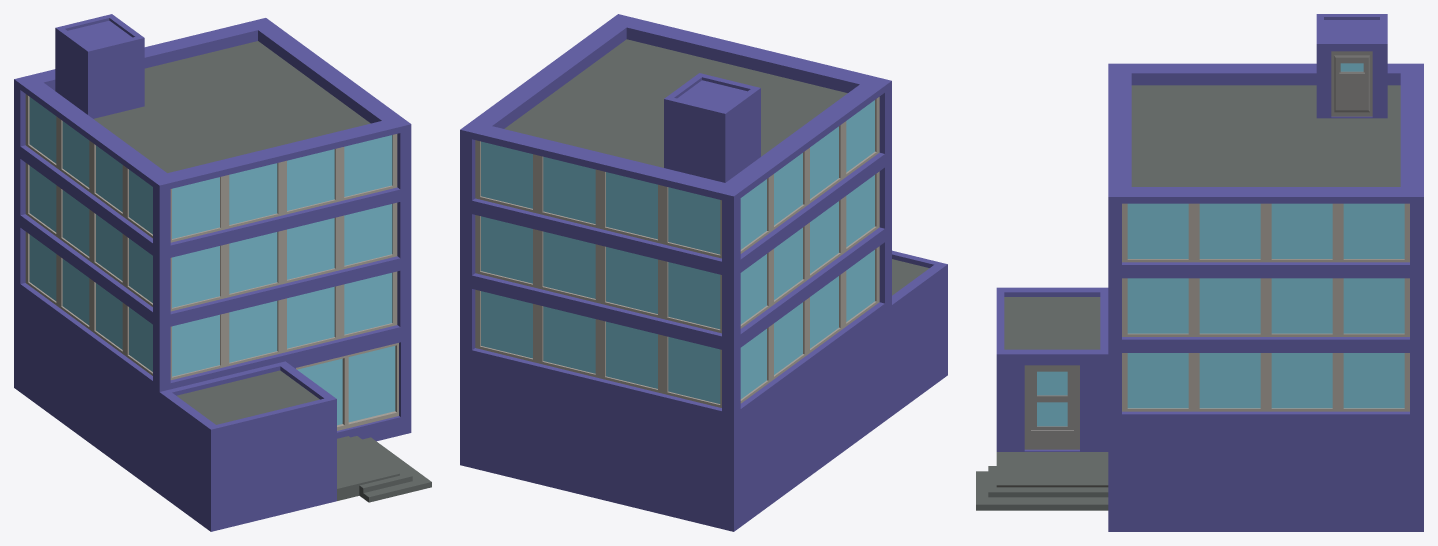
Rendered from SM_house_37.gltf.
3 renders of one model, left to right at view 1: azimuth 30°, elevation 25°; view 2: azimuth 150°, elevation 25°; view 3: azimuth 270°, elevation 25°, orthographic. The views are drawn at different scales.
Parts seen in each view (by area): view 1: SM_house_37; view 2: SM_house_37; view 3: SM_house_37.
Part boxes in pixels (box(x1,y1,x2,y2)): SM_house_37: box(14, 14, 431, 531); SM_house_37: box(460, 14, 947, 531); SM_house_37: box(976, 14, 1423, 531).
Size of the model in its own units: 2.65 by 3.68 by 3.75.
